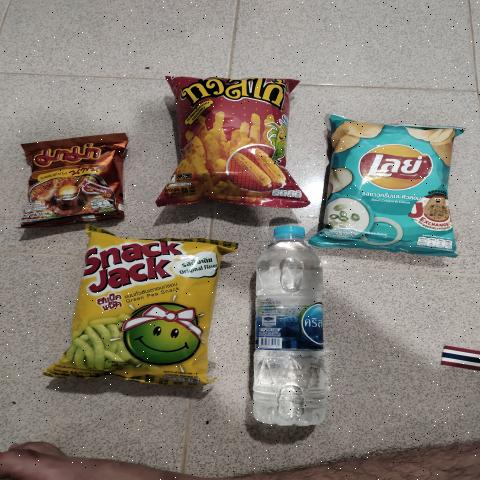crystal: (254, 219, 321, 430)
lay_blue: (330, 124, 460, 253)
mama: (35, 147, 122, 212)
snack_jack: (90, 238, 203, 391)
twisco: (169, 74, 303, 200)
